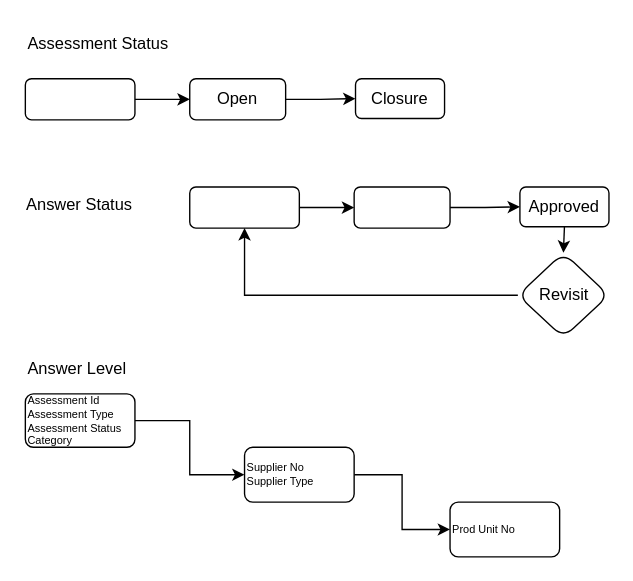
Image size: 633x581. Some labels were removed from this diagram. Each missing label, with the box of its shape:
Draft: (24, 77, 135, 120)
In Progress: (188, 186, 299, 228)
Review In Progress: (353, 186, 450, 228)
